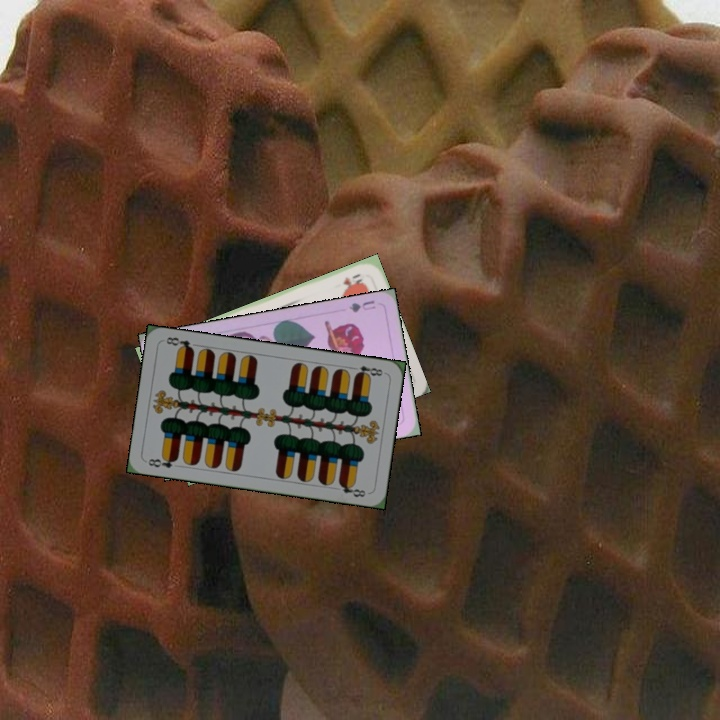E8: (347, 362, 385, 380), (144, 452, 180, 471)
GU: (345, 296, 378, 315)
HO: (339, 269, 365, 289)
